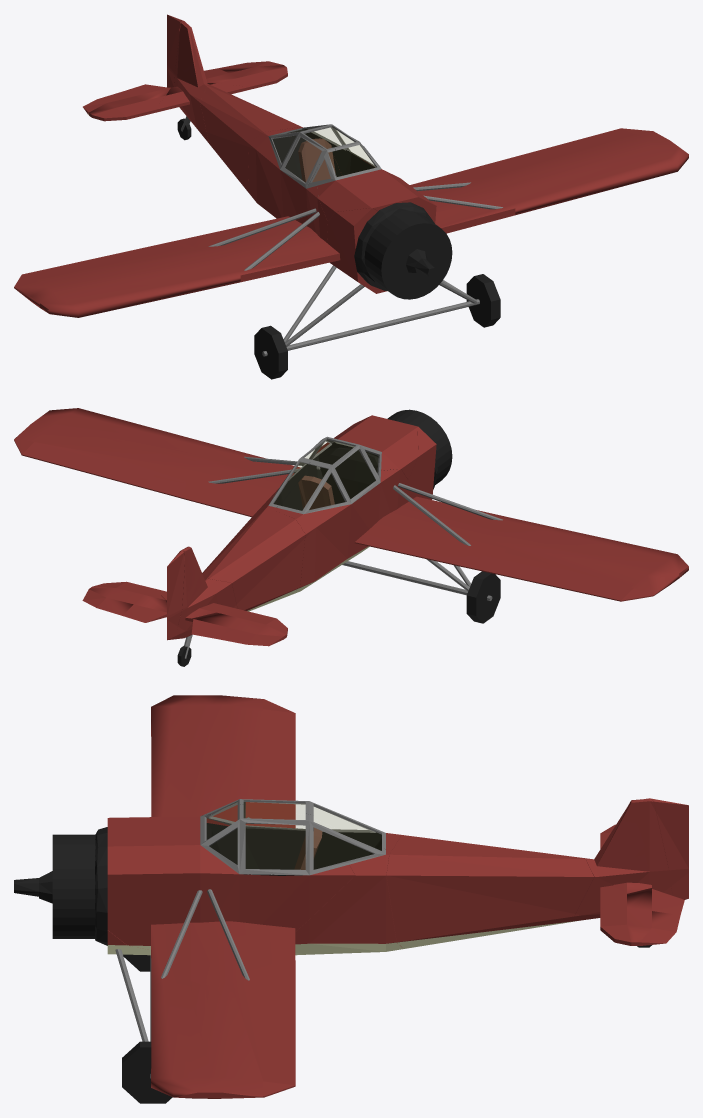
Rendered from aircraft_3_damage.glb.
3 renders of one model, top to bottom at view 1: azimuth 30°, elevation 25°; view 2: azimuth 150°, elevation 25°; view 3: azimuth 270°, elevation 25°, orthographic. The views are drawn at different scales.
Parts seen in each view (by area): view 1: fuselage, OuterWingRight, OuterWingLeft, wing right, TailBreakaway, wing left, tail.002, landing gear struts, aileron left, aileron right, broken cockpit section, MainWheelLeft (+9 smaller); view 2: fuselage, OuterWingLeft, OuterWingRight, wing right, TailBreakaway, wing left, tail.002, aileron left, aileron right, elevator, broken cockpit section, rudder (+8 smaller); view 3: fuselage, TailBreakaway, OuterWingLeft, OuterWingRight, wing left, tail.002, rudder, cockpit, aileron right, aileron left, wing right, broken cockpit section (+6 smaller).
Boxes of the visible parts, <box> form: fuselage: <box>248,127,452,299</box>; OuterWingRight: <box>14,249,214,317</box>; OuterWingLeft: <box>491,131,688,208</box>; wing right: <box>172,216,340,287</box>; TailBreakaway: <box>123,62,261,165</box>; wing left: <box>410,168,540,233</box>; tail.002: <box>225,107,301,191</box>; landing gear struts: <box>262,265,479,356</box>; aileron left: <box>471,128,653,174</box>; aileron right: <box>14,241,184,287</box>; broken cockpit section: <box>268,127,335,188</box>; MainWheelLeft: <box>254,325,287,379</box>; fuselage: <box>256,409,452,595</box>; OuterWingLeft: <box>15,408,214,480</box>; OuterWingRight: <box>491,524,688,595</box>; wing right: <box>354,496,540,568</box>; TailBreakaway: <box>123,541,270,637</box>; wing left: <box>172,445,300,517</box>; tail.002: <box>226,507,305,607</box>; aileron left: <box>14,439,184,495</box>; aileron right: <box>471,555,653,601</box>; elevator: <box>82,589,283,646</box>; broken cockpit section: <box>277,442,381,514</box>; rudder: <box>167,550,187,640</box>; fuselage: <box>14,816,403,955</box>; TailBreakaway: <box>483,844,651,936</box>; OuterWingLeft: <box>151,994,262,1098</box>; OuterWingRight: <box>151,695,262,799</box>; wing left: <box>151,921,295,999</box>; tail.002: <box>386,835,482,948</box>; rudder: <box>649,798,688,899</box>; cockpit: <box>200,804,385,875</box>; aileron right: <box>263,699,295,810</box>; aileron left: <box>263,993,295,1097</box>; wing right: <box>151,792,295,828</box>; broken cockpit section: <box>201,799,385,849</box>.
Bounding box in the file's own units: 10.68 × 2.97 × 7.67.
